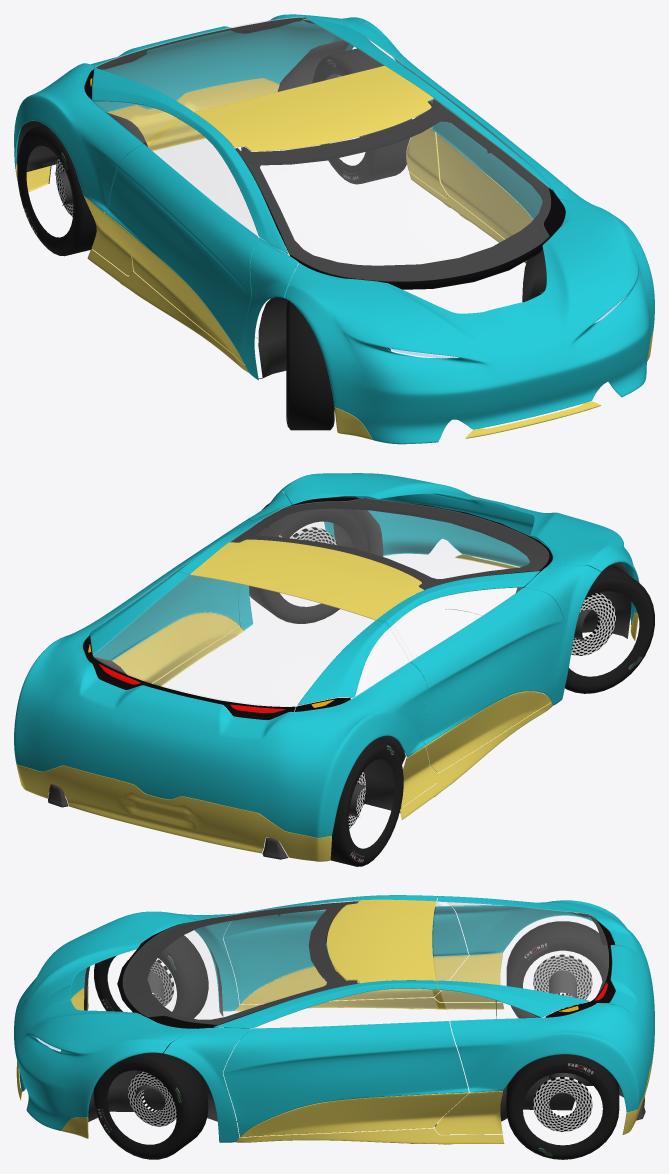
The model's file is car-concept-race.glb.
3 renders of one model, top to bottom at view 1: azimuth 30°, elevation 25°; view 2: azimuth 150°, elevation 25°; view 3: azimuth 270°, elevation 25°, orthographic. The views are drawn at different scales.
Visible parts, largest first — view 1: BodyHood, BodyWindshield, BodyRearPanelsColor1, BodyRearwindow, BodyDoorRColor1, BodyWindshieldGasket, BodyPanelsColor2, BodyRoofPanel, BodyPillars, BodyUnderside, WheelFrontR, BodyDoorRWindow (+7 smaller); view 2: BodyRearPanelsColor1, BodyRearwindow, BodyWindshield, BodyPanelsColor2, BodyHood, BodyDoorRColor1, BodyRoofPanel, BodyPillars, BodyWindshieldGasket, BodyDoorLColor1, BodyUnderside, BodyDoorLColor2 (+8 smaller); view 3: BodyRearPanelsColor1, BodyWindshield, BodyDoorLColor1, BodyHood, BodyRearwindow, BodyPanelsColor2, BodyPillars, BodyRoofPanel, BodyDoorRColor1, BodyWindshieldGasket, BodyDoorLColor2, WheelFrontL (+13 smaller).
Part boxes in pixels (bbox=[...]): BodyHood: bbox=[284, 199, 654, 444]; BodyWindshield: bbox=[235, 99, 550, 281]; BodyRearPanelsColor1: bbox=[14, 14, 436, 211]; BodyRearwindow: bbox=[95, 17, 383, 111]; BodyDoorRColor1: bbox=[105, 144, 258, 364]; BodyWindshieldGasket: bbox=[235, 100, 565, 289]; BodyPanelsColor2: bbox=[15, 78, 653, 439]; BodyRoofPanel: bbox=[194, 65, 433, 151]; BodyPillars: bbox=[177, 61, 600, 380]; BodyUnderside: bbox=[16, 40, 546, 378]; WheelFrontR: bbox=[286, 300, 334, 430]; BodyDoorRWindow: bbox=[148, 121, 257, 235]; BodyRearPanelsColor1: bbox=[14, 571, 427, 837]; BodyRearwindow: bbox=[93, 575, 375, 705]; BodyWindshield: bbox=[230, 498, 548, 589]; BodyPanelsColor2: bbox=[16, 554, 638, 861]; BodyHood: bbox=[279, 473, 639, 624]; BodyDoorRColor1: bbox=[410, 587, 564, 745]; BodyRoofPanel: bbox=[190, 539, 423, 620]; BodyPillars: bbox=[176, 491, 600, 705]; BodyWindshieldGasket: bbox=[231, 497, 552, 589]; BodyDoorLColor1: bbox=[107, 519, 251, 660]; BodyUnderside: bbox=[48, 496, 631, 859]; BodyDoorLColor2: bbox=[112, 612, 239, 683]; BodyRearPanelsColor1: bbox=[437, 896, 654, 1112]; BodyWindshield: bbox=[123, 900, 358, 1024]; BodyDoorLColor1: bbox=[223, 1021, 468, 1136]; BodyHood: bbox=[14, 911, 197, 1130]; BodyRearwindow: bbox=[433, 901, 608, 1000]; BodyPanelsColor2: bbox=[16, 953, 653, 1144]; BodyPillars: bbox=[163, 895, 438, 1142]; BodyRoofPanel: bbox=[327, 899, 436, 983]; BodyDoorRColor1: bbox=[223, 906, 468, 1004]; BodyWindshieldGasket: bbox=[117, 901, 358, 1028]; BodyDoorLColor2: bbox=[240, 1092, 468, 1137]; WheelFrontL: bbox=[93, 1046, 208, 1159].
Bounding box in the file's own units: 2.54 × 1.15 × 4.36.
Materials: 11 (3 with a texture image).
